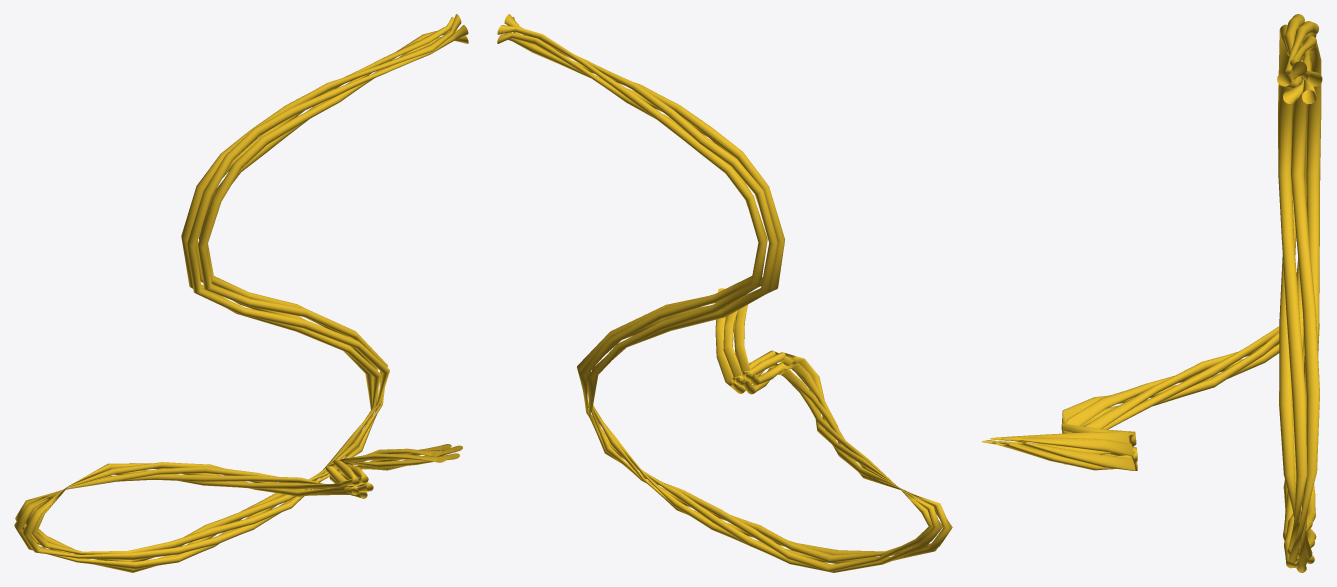
Rendered from Rope.fbx.
3 views of the same model, side by side, from view 1: azimuth 30°, elevation 25°; view 2: azimuth 150°, elevation 25°; view 3: azimuth 270°, elevation 25° (orthographic). The views are drawn at different scales.
Visible parts, largest first — view 1: Rope; view 2: Rope; view 3: Rope.
Boxes of the visible parts, x1=… form: Rope: x1=14, y1=14, x2=468, y2=572; Rope: x1=497, y1=14, x2=952, y2=572; Rope: x1=981, y1=14, x2=1322, y2=572.
Size of the model in its own units: 2.79 by 2.85 by 1.33.
